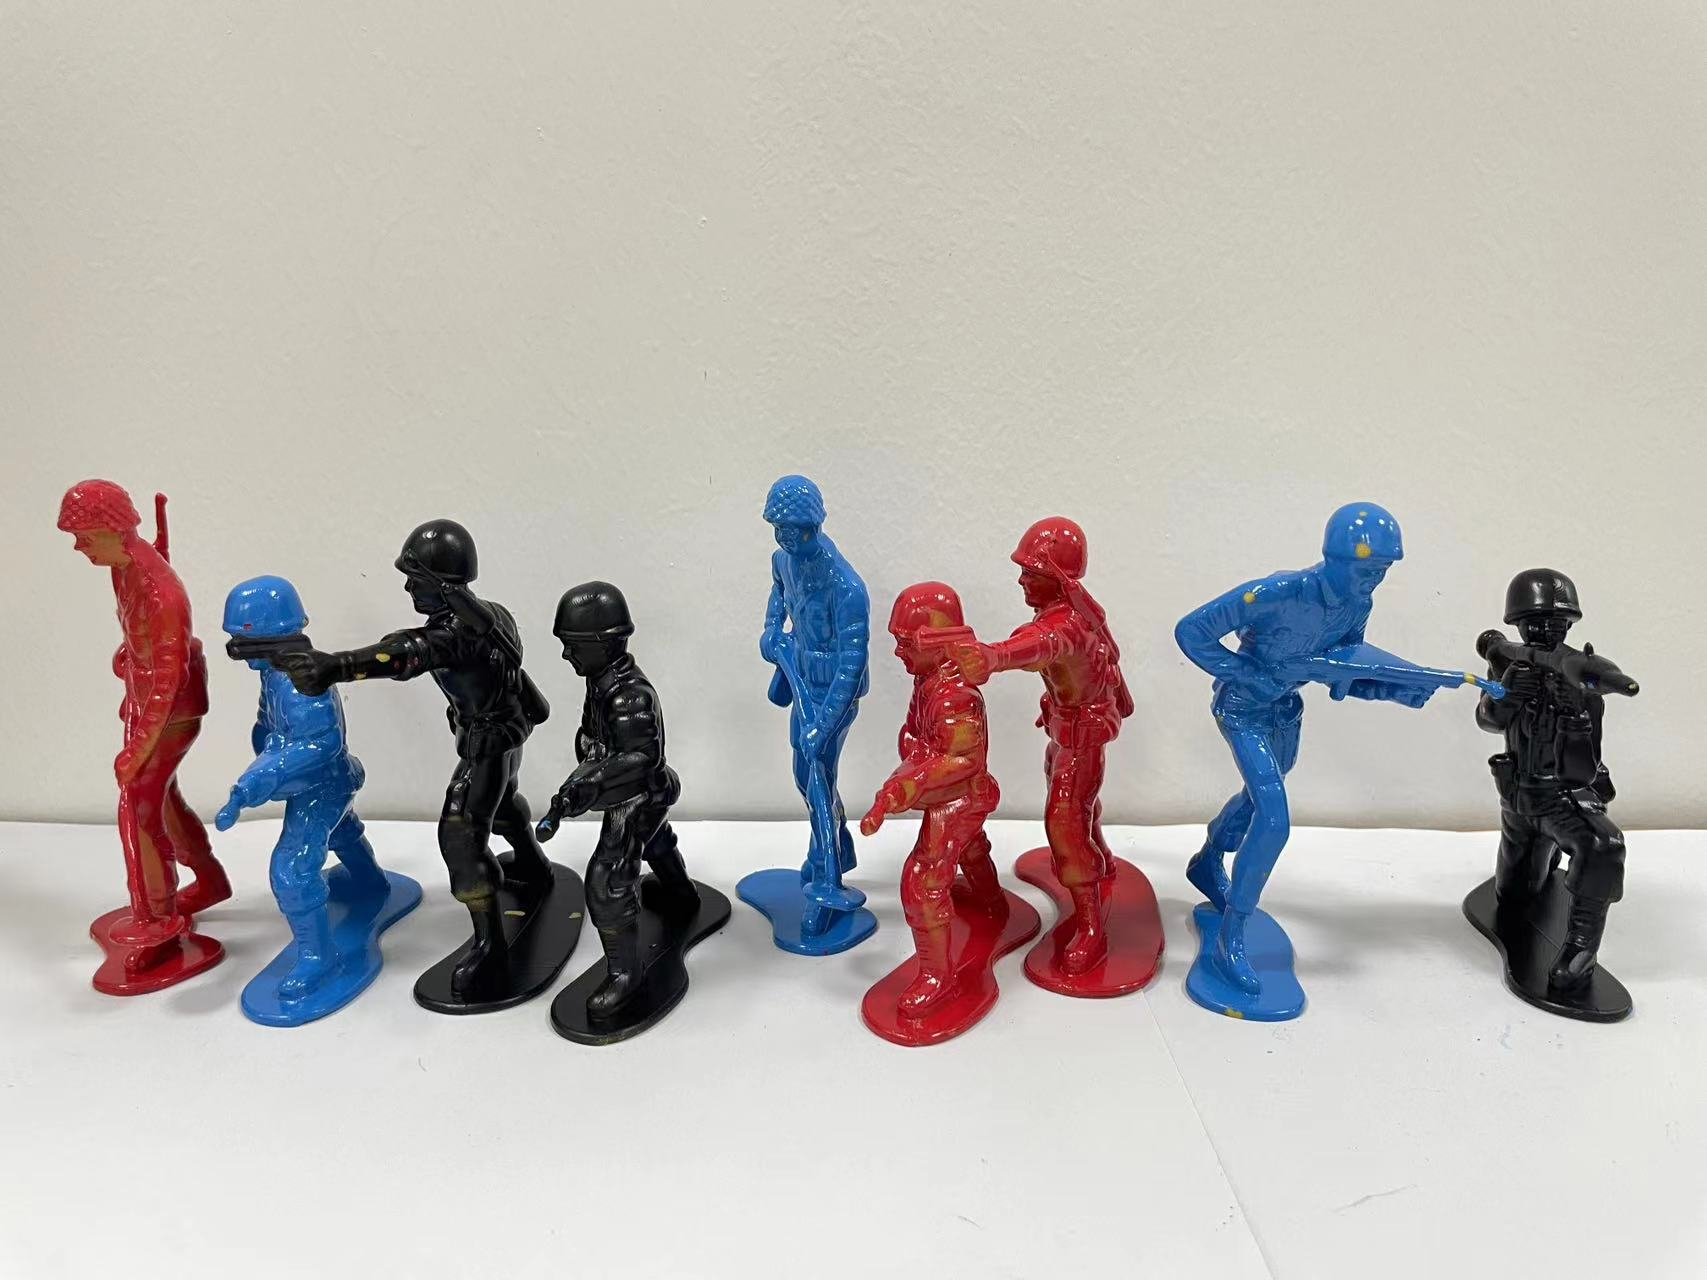black: (1449, 563, 1671, 1053), (352, 502, 559, 1021), (538, 579, 742, 1062)
blue: (1169, 489, 1431, 1043), (199, 553, 391, 1033), (727, 454, 895, 972)
red: (16, 445, 235, 1026), (979, 493, 1176, 1004), (860, 575, 1017, 1041)
